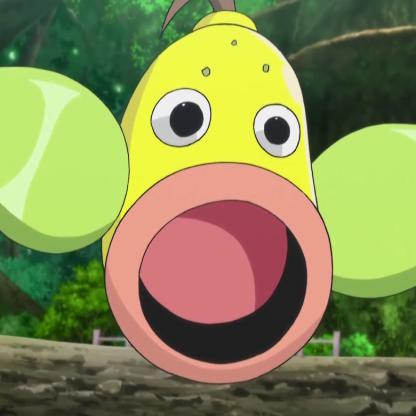Weepinbell: (1, 3, 416, 387)
